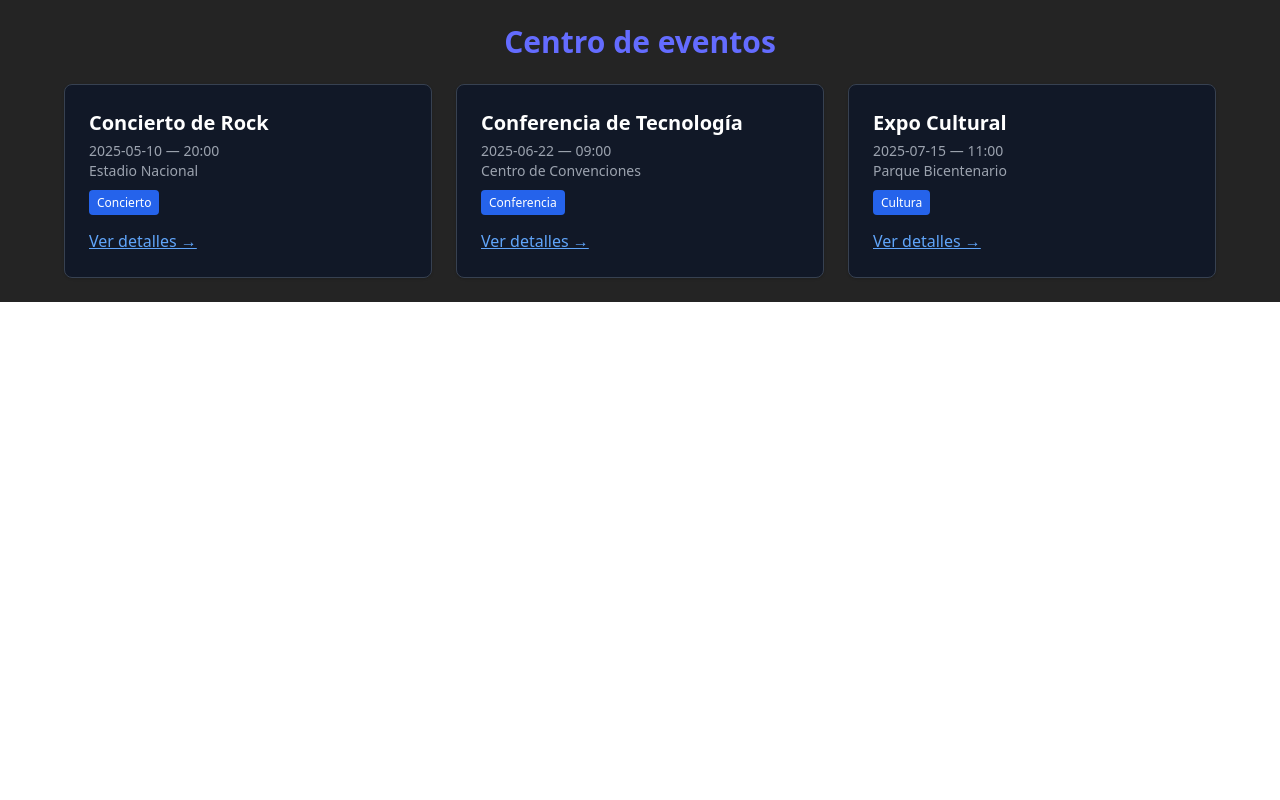
Test: Centro de Eventos - Pruebas E2E reales › Permite abrir los detalles del evento
This screenshot has width=1280, height=800.
Click the link "Ver detalles →" below "Estadio Nacional" at point(143, 241), box [89,230,197,252]
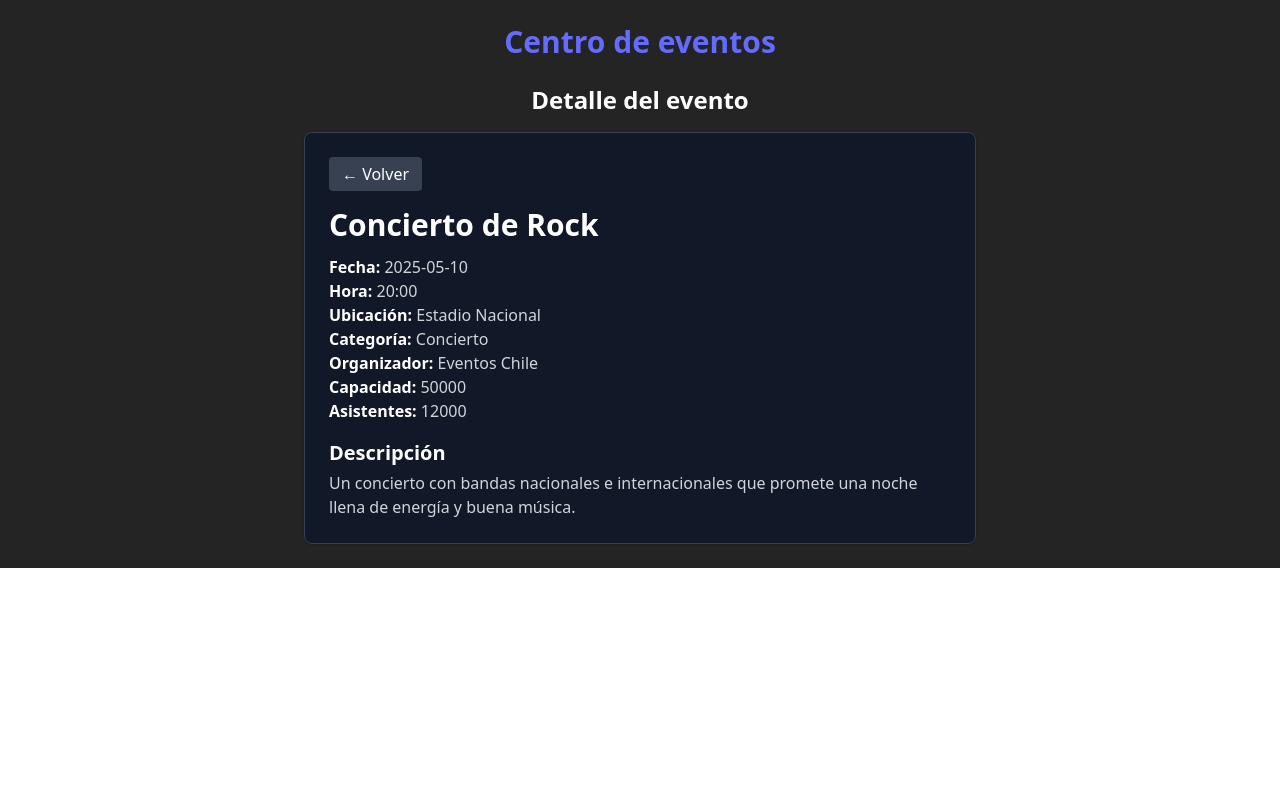
expect the link "Centro de eventos" is shown: met, box [504,24,776,60]
expect the heading "Detalle del evento" is shown: met, box [531,84,749,116]
